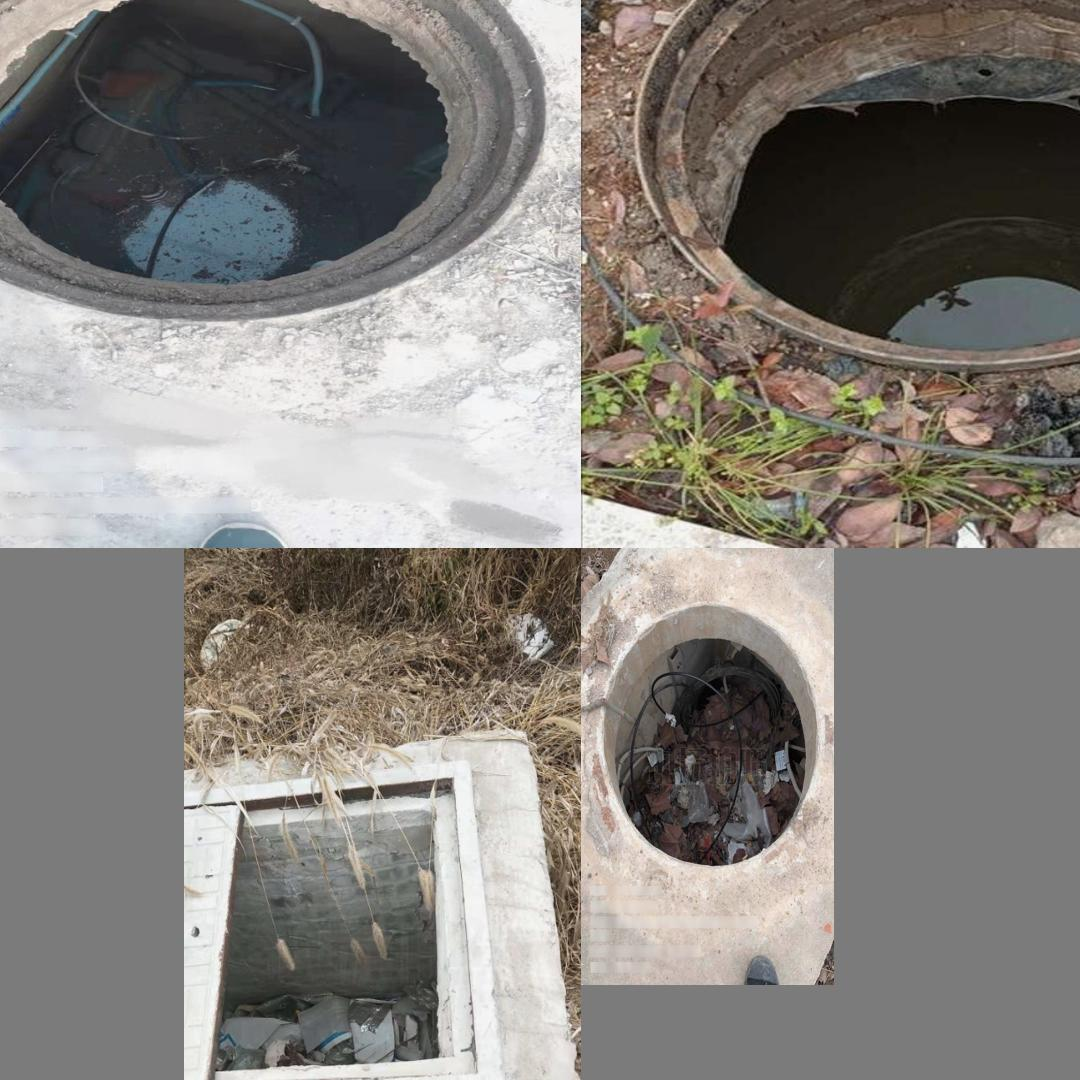lose: (0, 0, 544, 326), (618, 0, 1080, 376), (184, 760, 509, 1080), (602, 599, 816, 866)
